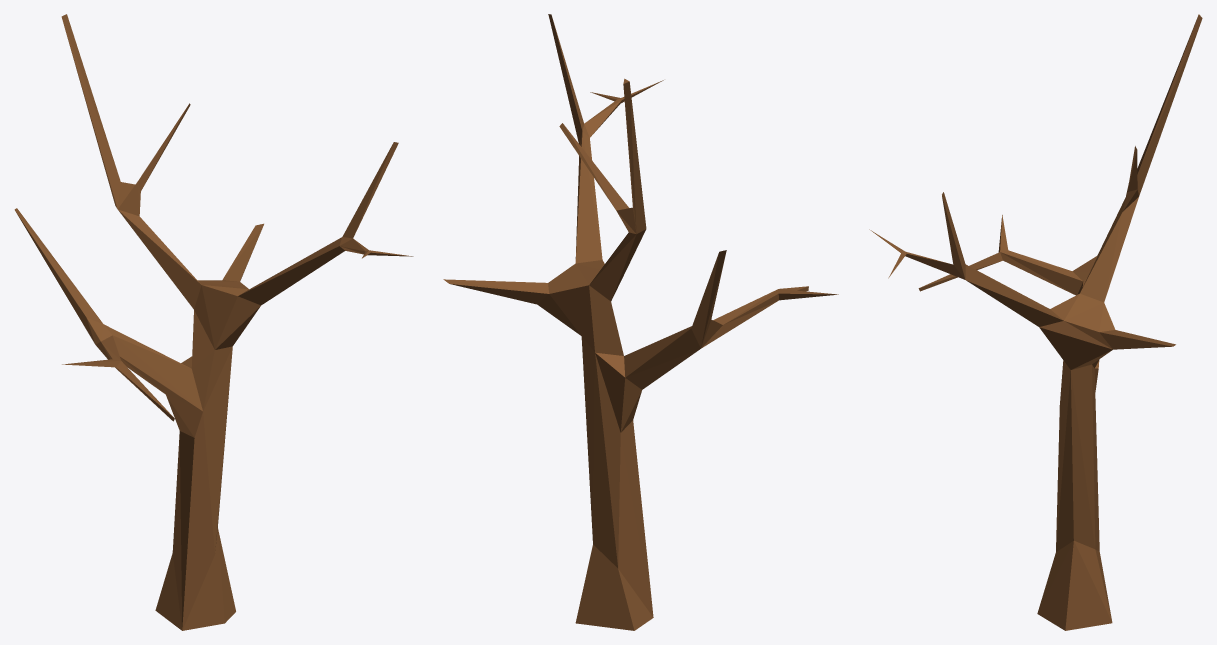
Rendered from tree01.fbx.
3 renders of one model, left to right at view 1: azimuth 30°, elevation 25°; view 2: azimuth 150°, elevation 25°; view 3: azimuth 270°, elevation 25°, orthographic. The views are drawn at different scales.
Parts seen in each view (by area): view 1: tree01; view 2: tree01; view 3: tree01.
Part boxes in pixels (<box>): tree01: <box>14,14,413,630</box>; tree01: <box>443,14,838,630</box>; tree01: <box>869,14,1202,630</box>.
Bounding box in the file's own units: 297 × 530 × 283.
